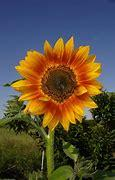sunflowers: (12, 34, 107, 124)
